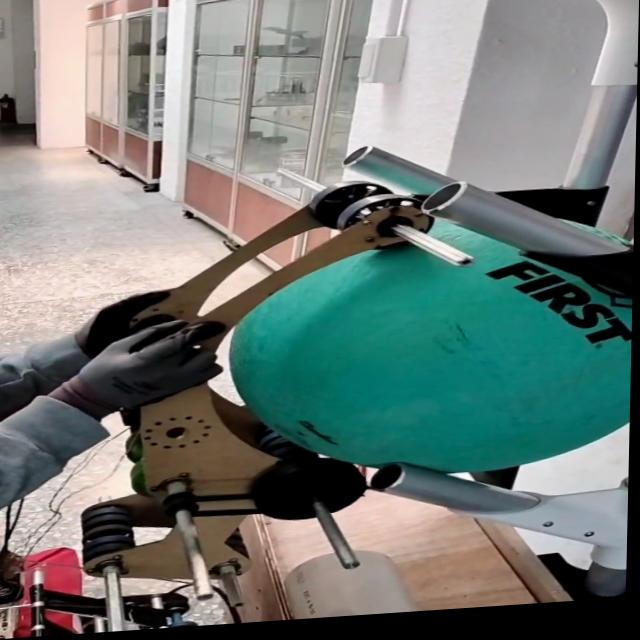ALGAE: (226, 204, 635, 486)
CORAL: (265, 530, 439, 621)
